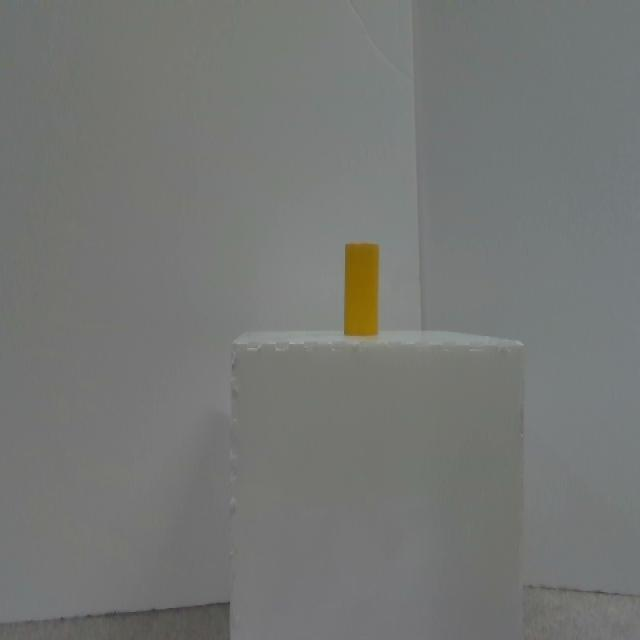yellow_cylinder: (346, 243, 378, 336)
